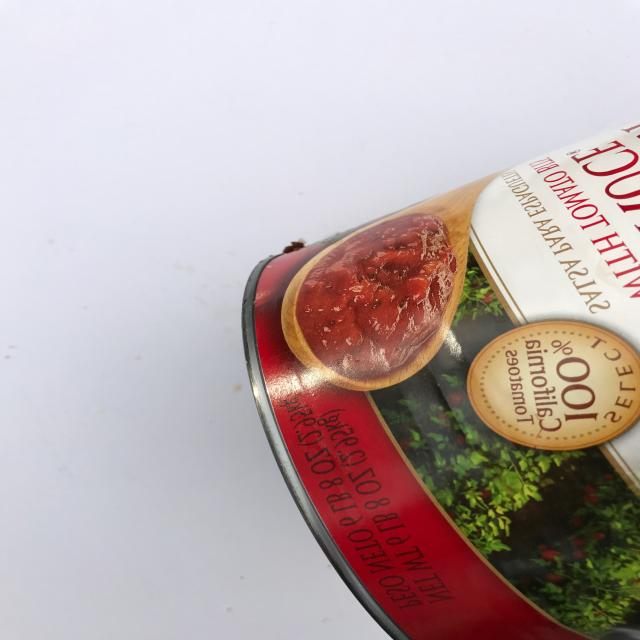metal: (240, 122, 640, 640)
